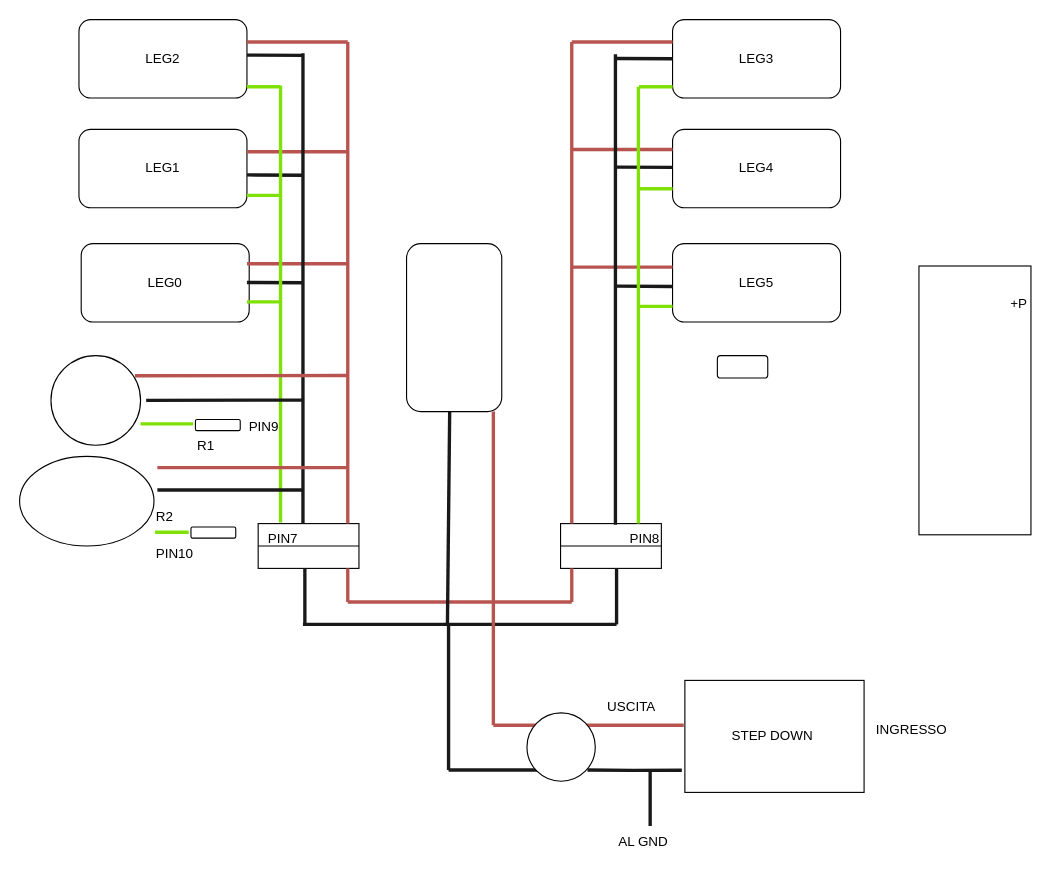
Image size: 1051x890. Some labels were removed from this diagram. The centre of each missing label's shape, as x and y in pixels:
-P: point (974, 400)
ANELLO: point (86, 500)
condensatore: point (560, 746)
ESP32 S3: point (453, 327)
OCCHIO: point (95, 399)
